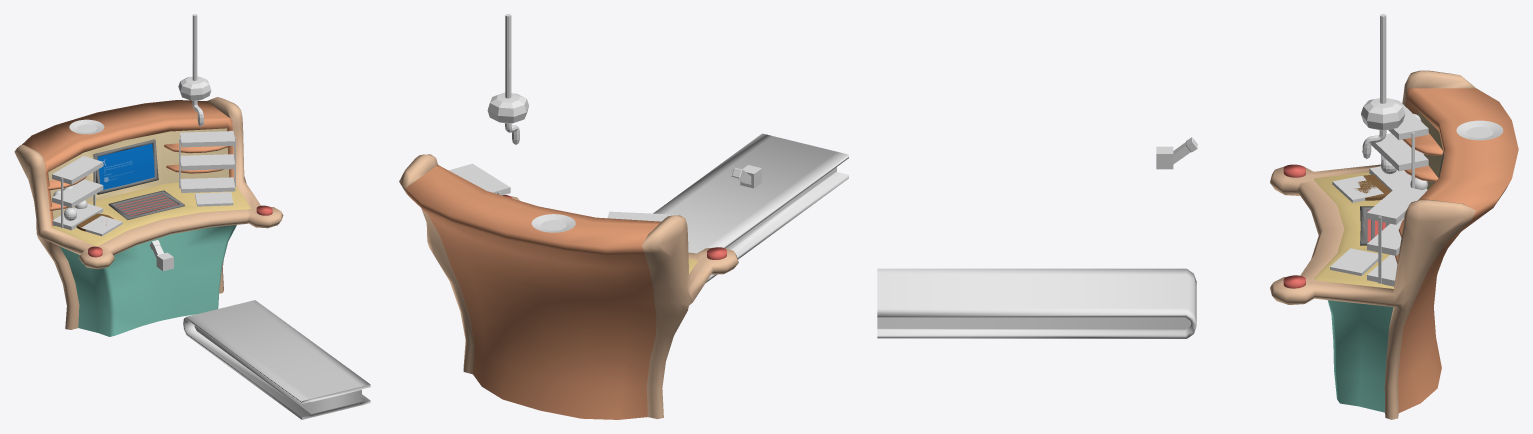
Rendered from KitchenFurnitureV2.fbx.
The picture shows the model from 3 angles, left to right: view 1: azimuth 30°, elevation 25°; view 2: azimuth 150°, elevation 25°; view 3: azimuth 270°, elevation 25°; orthographic projection. The views are drawn at different scales.
Parts seen in each view (by area): view 1: Table, Rodillo, Pantry_R, Pantry_L, Screen, Generator, Pantry_L.001, Grill, Cutting_Board_R, Cutting_Board_L, Plate, Lever; view 2: Table, Rodillo, Generator, Pantry_R, Plate, Lever, Pantry_L; view 3: Table, Rodillo, Pantry_R, Pantry_L, Generator, Pantry_L.001, Cutting_Board_R, Plate, Lever, Cutting_Board_L.
Boxes of the visible parts, left/top/right/bottom form: Table: left=14, top=97, right=283, bottom=336; Rodillo: left=183, top=300, right=370, bottom=419; Pantry_R: left=179, top=131, right=235, bottom=192; Pantry_L: left=52, top=156, right=103, bottom=230; Screen: left=98, top=143, right=154, bottom=189; Generator: left=178, top=14, right=211, bottom=126; Pantry_L.001: left=48, top=143, right=230, bottom=210; Grill: left=115, top=193, right=177, bottom=215; Cutting_Board_R: left=195, top=192, right=233, bottom=206; Cutting_Board_L: left=81, top=215, right=122, bottom=236; Plate: left=69, top=119, right=104, bottom=134; Lever: left=150, top=240, right=173, bottom=271; Table: left=399, top=154, right=738, bottom=419; Rodillo: left=653, top=133, right=848, bottom=283; Generator: left=487, top=14, right=528, bottom=144; Pantry_R: left=449, top=163, right=510, bottom=195; Plate: left=531, top=214, right=575, bottom=232; Lever: left=731, top=165, right=761, bottom=188; Pantry_L: left=606, top=211, right=676, bottom=221; Table: left=1270, top=70, right=1518, bottom=419; Rodillo: left=877, top=268, right=1196, bottom=338; Pantry_R: left=1367, top=185, right=1426, bottom=286; Pantry_L: left=1369, top=100, right=1428, bottom=191; Generator: left=1361, top=14, right=1405, bottom=158; Pantry_L.001: left=1395, top=133, right=1442, bottom=263; Cutting_Board_R: left=1330, top=248, right=1382, bottom=275; Plate: left=1456, top=120, right=1503, bottom=140; Lever: left=1156, top=137, right=1197, bottom=169; Cutting_Board_L: left=1332, top=175, right=1383, bottom=202.
Bounding box in the file's own units: 188 × 246 × 374.
